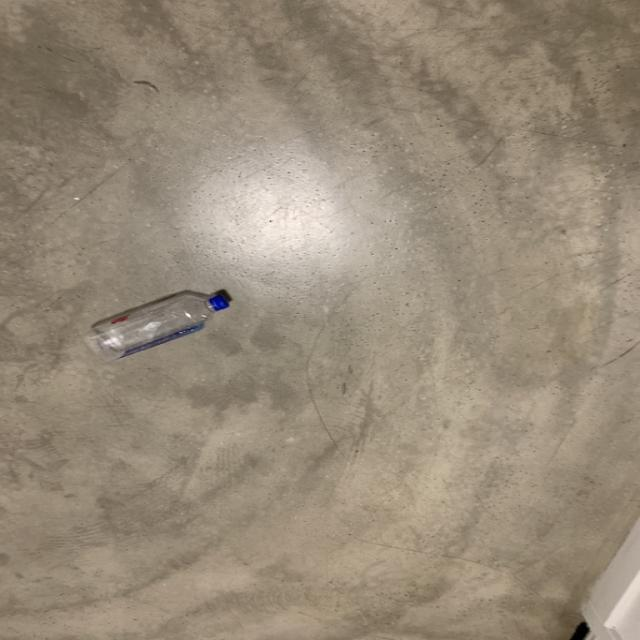litter: (82, 292, 234, 364)
